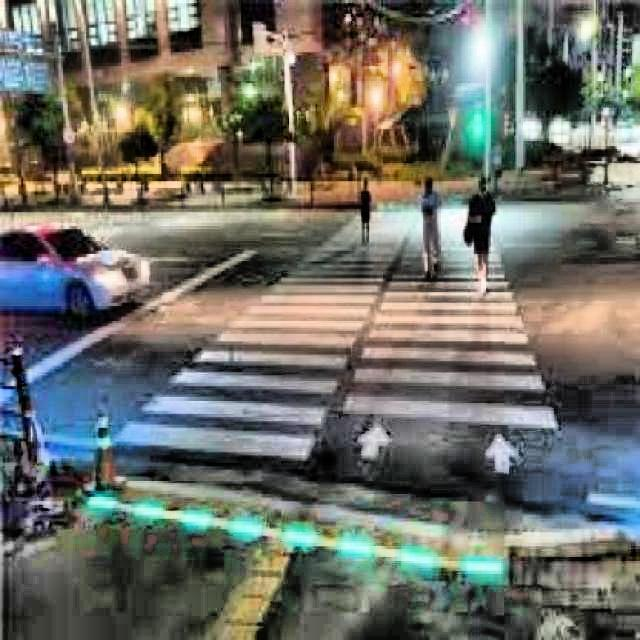semaforo pedestre: (445, 96, 513, 168)
